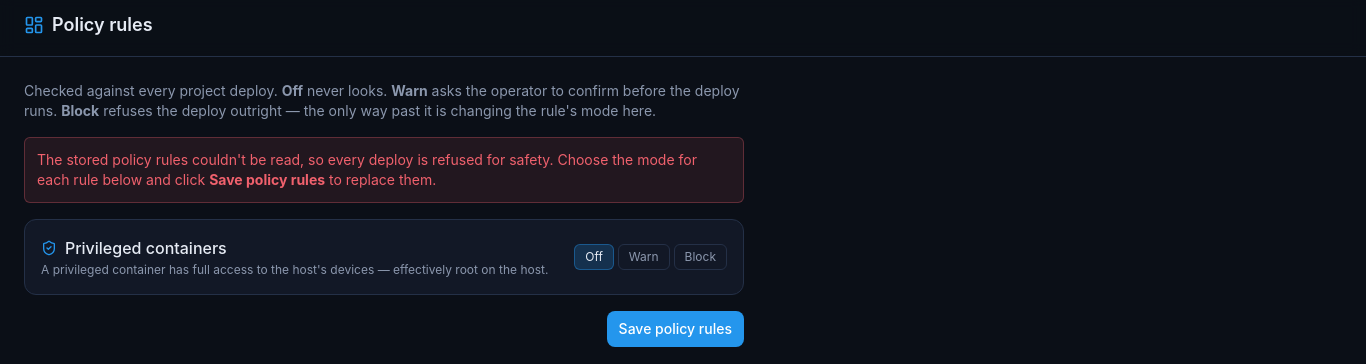
Scenario: PolicyRules › warns when the stored rules are unreadable, and clears it once saved
The width and height of the screenshot is (1366, 364).
Expected: the message shows "every deploy is refused", [37,151,697,188]
Click the button "Save policy rules".
click(675, 329)  # box [607,311,744,347]
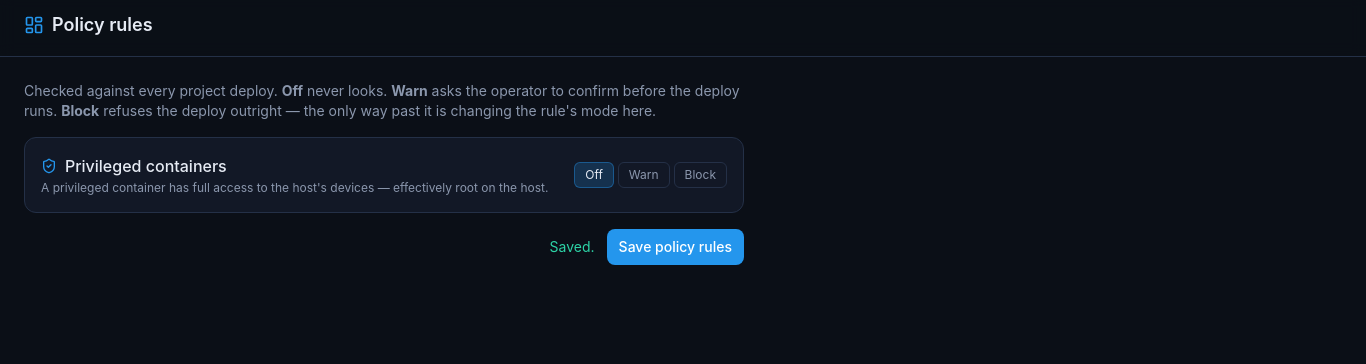
Result: the message is gone
